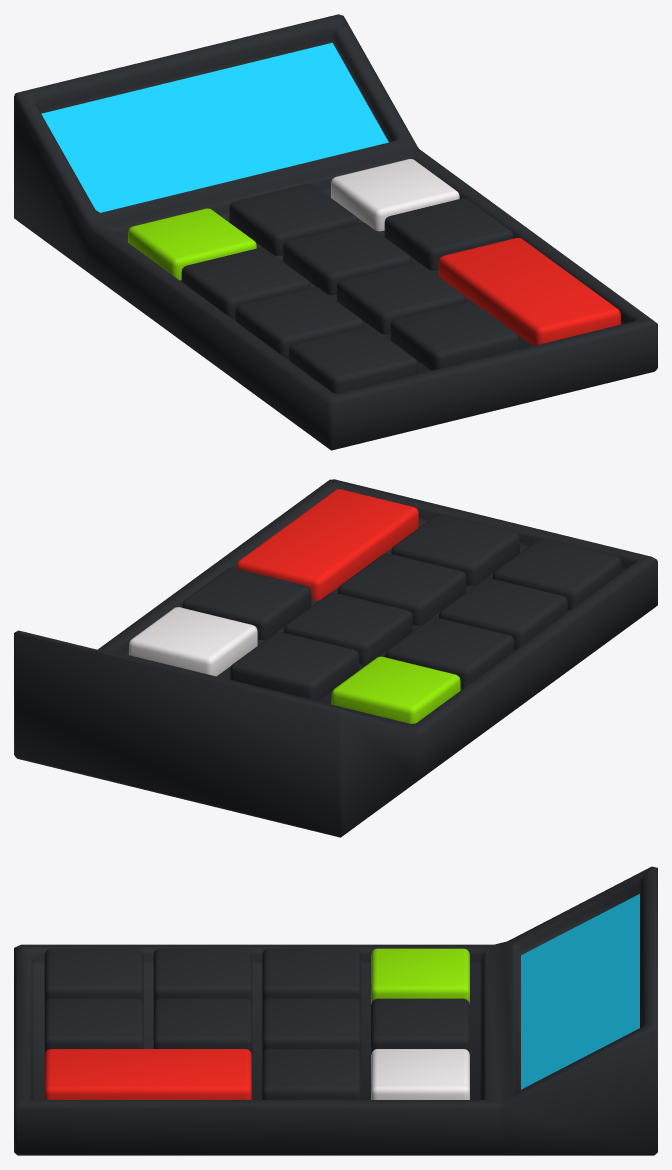
The model's file is Calculator.fbx.
3 views of the same model, one above another, from view 1: azimuth 30°, elevation 25°; view 2: azimuth 150°, elevation 25°; view 3: azimuth 270°, elevation 25° (orthographic).
Visible parts, largest first — view 1: Calculator.002; view 2: Calculator.002; view 3: Calculator.002.
Part boxes in pixels (<box>): Calculator.002: <box>14,14,657,450</box>; Calculator.002: <box>14,479,657,837</box>; Calculator.002: <box>14,866,657,1155</box>.
Bounding box in the file's own units: 38.01 × 14.13 × 63.45.
